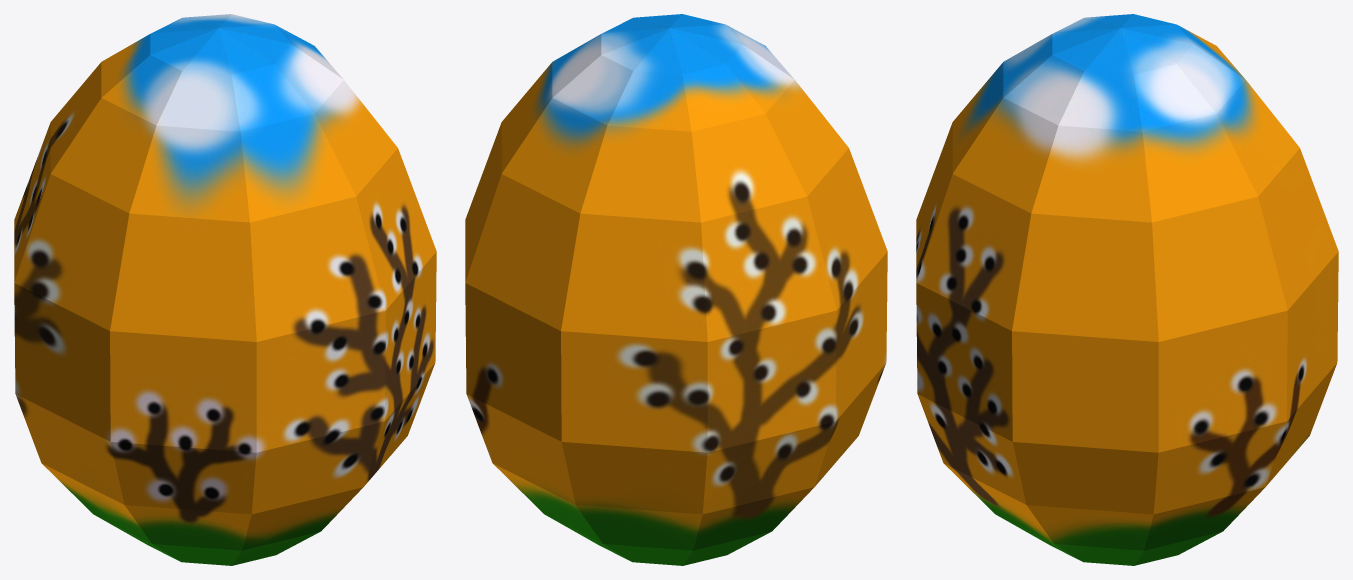
Rendered from egg_twig.glb.
3 renders of one model, left to right at view 1: azimuth 30°, elevation 25°; view 2: azimuth 150°, elevation 25°; view 3: azimuth 270°, elevation 25°, orthographic.
Parts seen in each view (by area): view 1: Ei; view 2: Ei; view 3: Ei.
Part boxes in pixels (x1,y1,x2,y2): Ei: (14, 14, 436, 565); Ei: (465, 14, 887, 565); Ei: (916, 14, 1338, 565).
Bounding box in the file's own units: 0.3486 × 0.4649 × 0.3433.
1 material, 1 textured.
